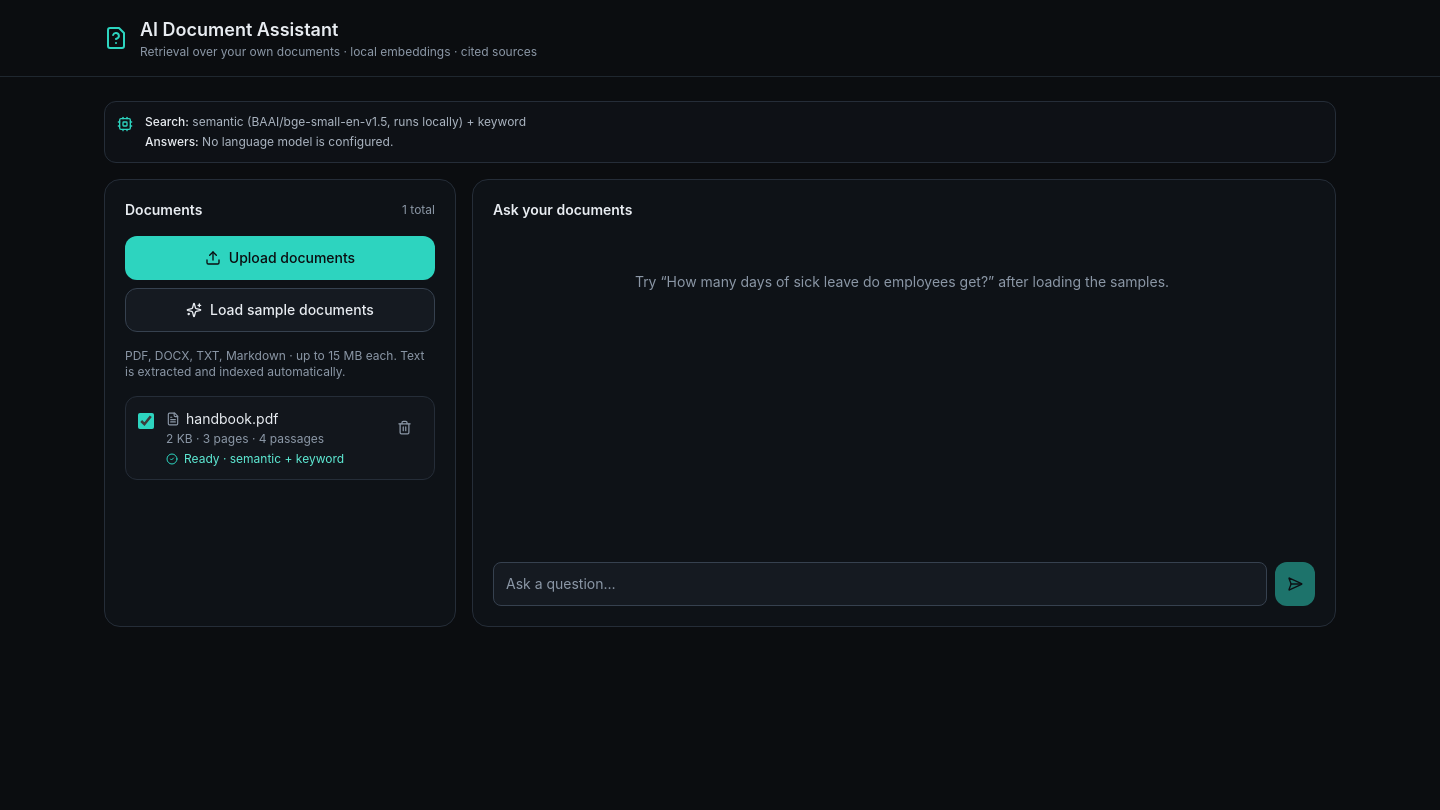
Scenario: shows retrieved passages with page citations and is honest about missing LLM
This screenshot has width=1440, height=810.
Check: the text "handbook.pdf" is shown, box x1=186 y1=409 x2=278 y2=429
Check: the text "semantic (BAAI/bge-small-en-v1.5, runs locally)" is shown, box x1=192 y1=114 x2=526 y2=129
In the field labelled "question": (880, 584) x1=493 y1=562 x2=1267 y2=606, type "How many sick days?"
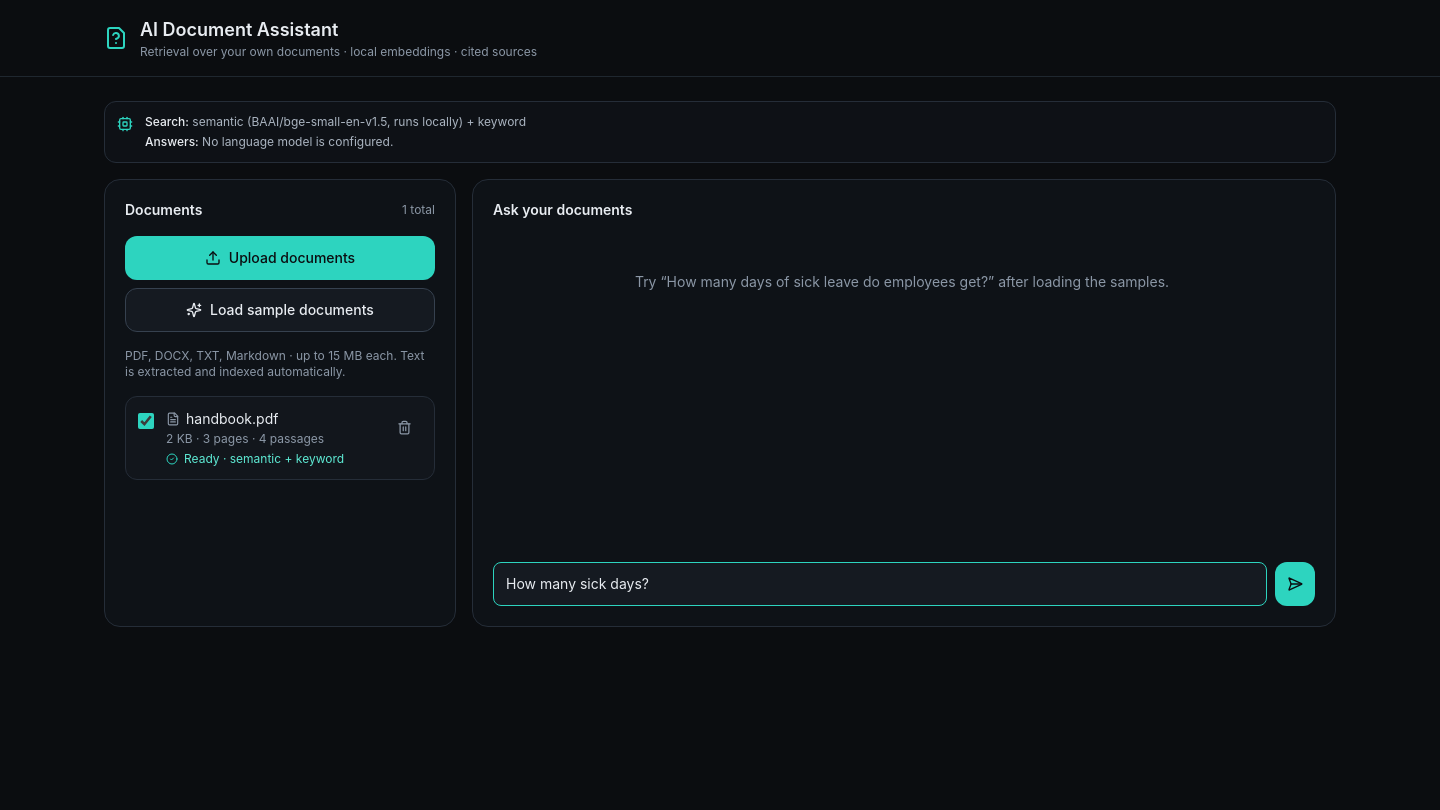
Click the button named "Ask": (1295, 584) x1=1275 y1=562 x2=1315 y2=606
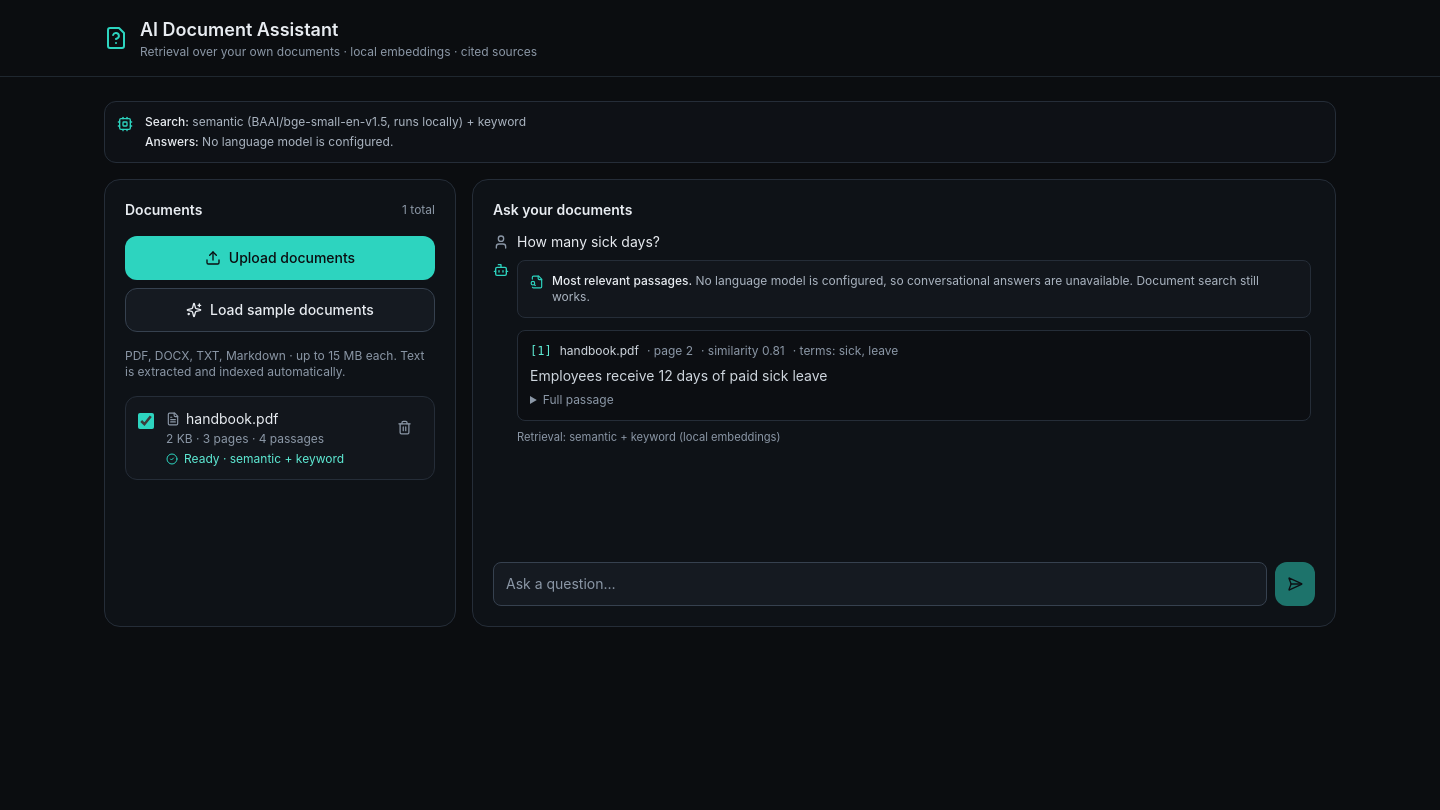
Check: the text "· page 2" is shown, box x1=647 y1=343 x2=693 y2=359
Check: the text "Employees receive 12 days of paid sick leave" is shown, box x1=530 y1=367 x2=828 y2=384
Check: the text "conversational answers are unavailable" is shown, box x1=552 y1=273 x2=1259 y2=304
